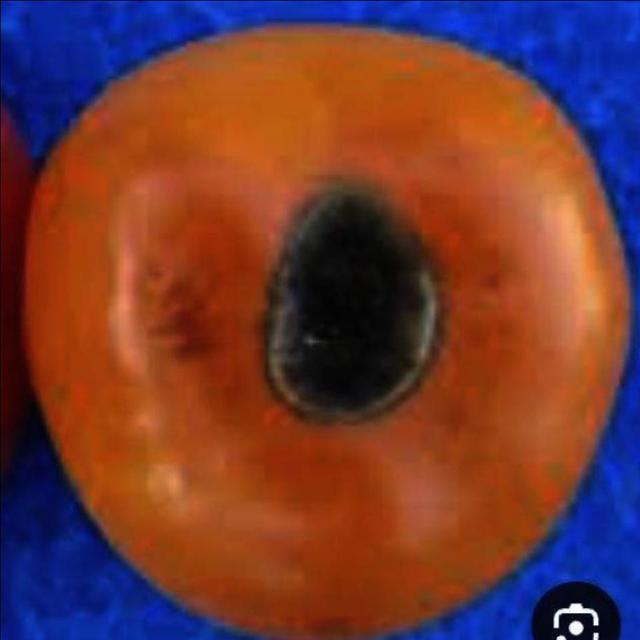Blossom End Rot Fruit: (171, 116, 298, 276)
